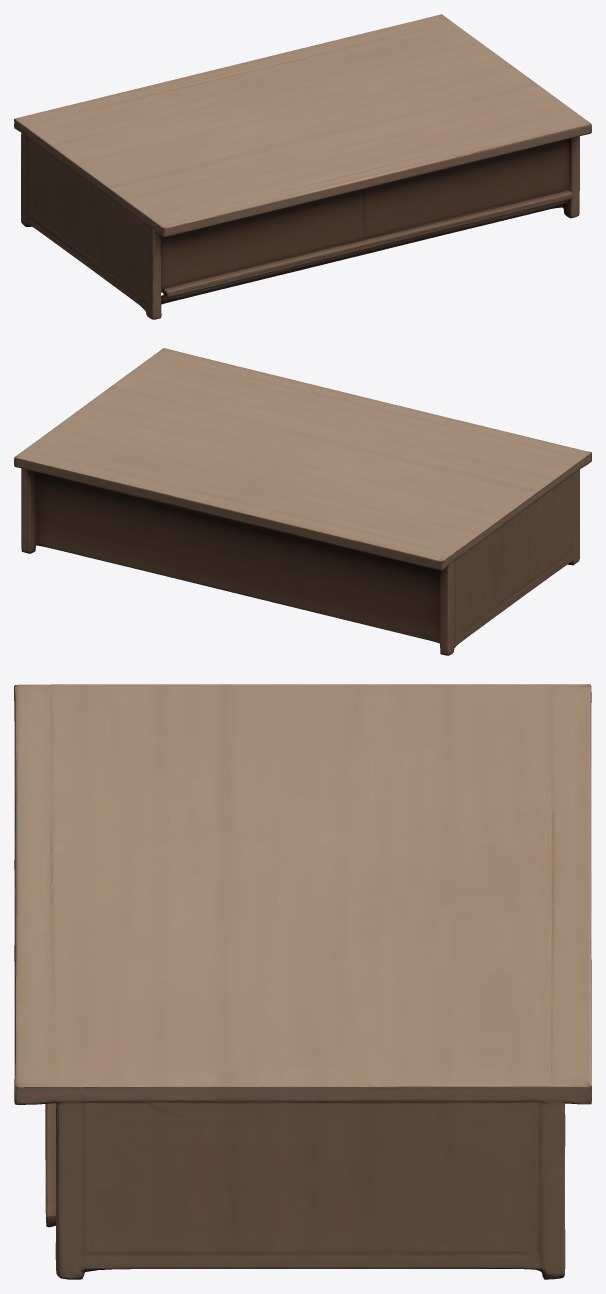
3 views of the same model, one above another, from view 1: azimuth 30°, elevation 25°; view 2: azimuth 150°, elevation 25°; view 3: azimuth 270°, elevation 25° (orthographic). The views are drawn at different scales.
Visible parts, largest first — view 1: geometry_0; view 2: geometry_0; view 3: geometry_0.
Boxes of the visible parts, x1=… form: geometry_0: x1=14, y1=14, x2=591, y2=319; geometry_0: x1=14, y1=348, x2=591, y2=655; geometry_0: x1=14, y1=684, x2=591, y2=1279.
Size of the model in its own units: 1 by 0.2277 by 0.6075.
1 material, 1 textured.
